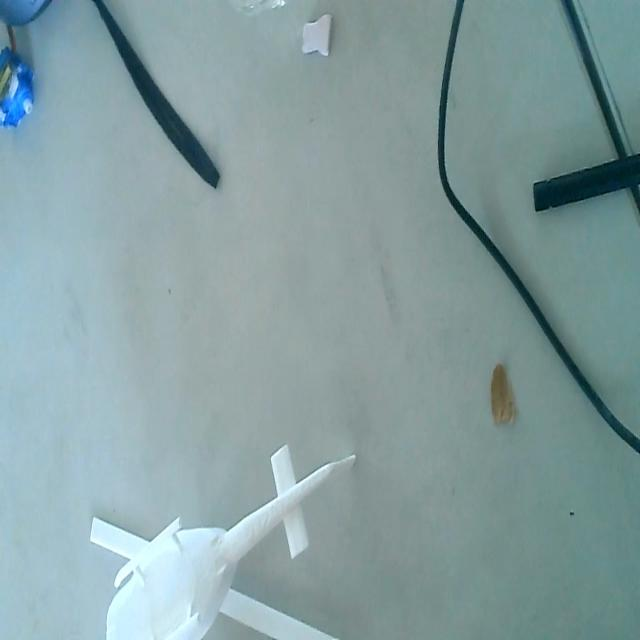Helicopter: (88, 440, 356, 640)
